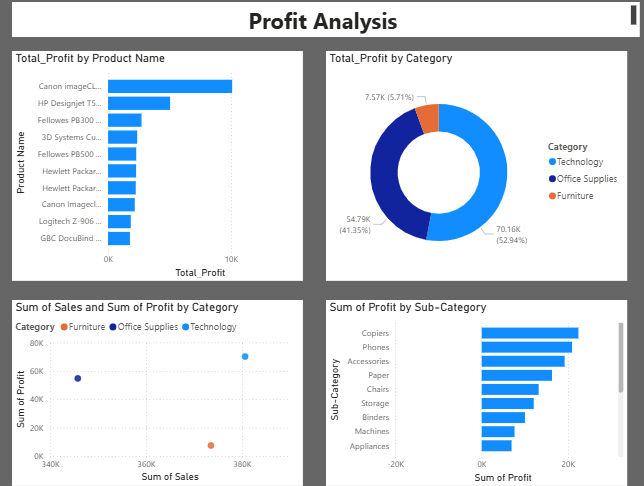

Layout of this report page (visuals, bound fields, positions):
{"tool":"powerbi","page":{"name":"Profit by category","canvas":[960,720],"ordinal":2},"visuals":[{"type":"clusteredBarChart","fields":{"Category":["Sample - Superstore.Product Name"],"Y":["Sample - Superstore.Total_Profit"]},"box":[23.3,86,424.1,335.2],"z":1},{"type":"scatterChart","fields":{"X":["Sum(Sample - Superstore.Sales)"],"Y":["Sum(Sample - Superstore.Profit)"],"Series":["Sample - Superstore.Category"]},"box":[23.3,448.9,424.1,271.1],"z":2},{"type":"clusteredBarChart","fields":{"Category":["Sample - Superstore.Sub-Category"],"Y":["Sum(Sample - Superstore.Profit)"]},"box":[481,448.9,438.7,271.1],"z":3},{"type":"textbox","box":[24,15,915.1,50.9],"z":4},{"type":"donutChart","fields":{"Category":["Sample - Superstore.Category"],"Y":["Sample - Superstore.Total_Profit"]},"box":[481,86,438.7,335.2],"z":5}]}

Visuals, with their boxes in screenshot pixels (x1, y1, x2, y2), scaled from the page's 960x720 canvas onto the 644x486 screenshot:
clusteredBarChart - Sample - Superstore.Product Name x Sample - Superstore.Total_Profit: Rect(16, 58, 300, 284)
scatterChart - Sum(Sample - Superstore.Sales) x Sum(Sample - Superstore.Profit): Rect(16, 303, 300, 485)
clusteredBarChart - Sample - Superstore.Sub-Category x Sum(Sample - Superstore.Profit): Rect(323, 303, 617, 485)
textbox: Rect(16, 10, 630, 44)
donutChart - Sample - Superstore.Category x Sample - Superstore.Total_Profit: Rect(323, 58, 617, 284)
